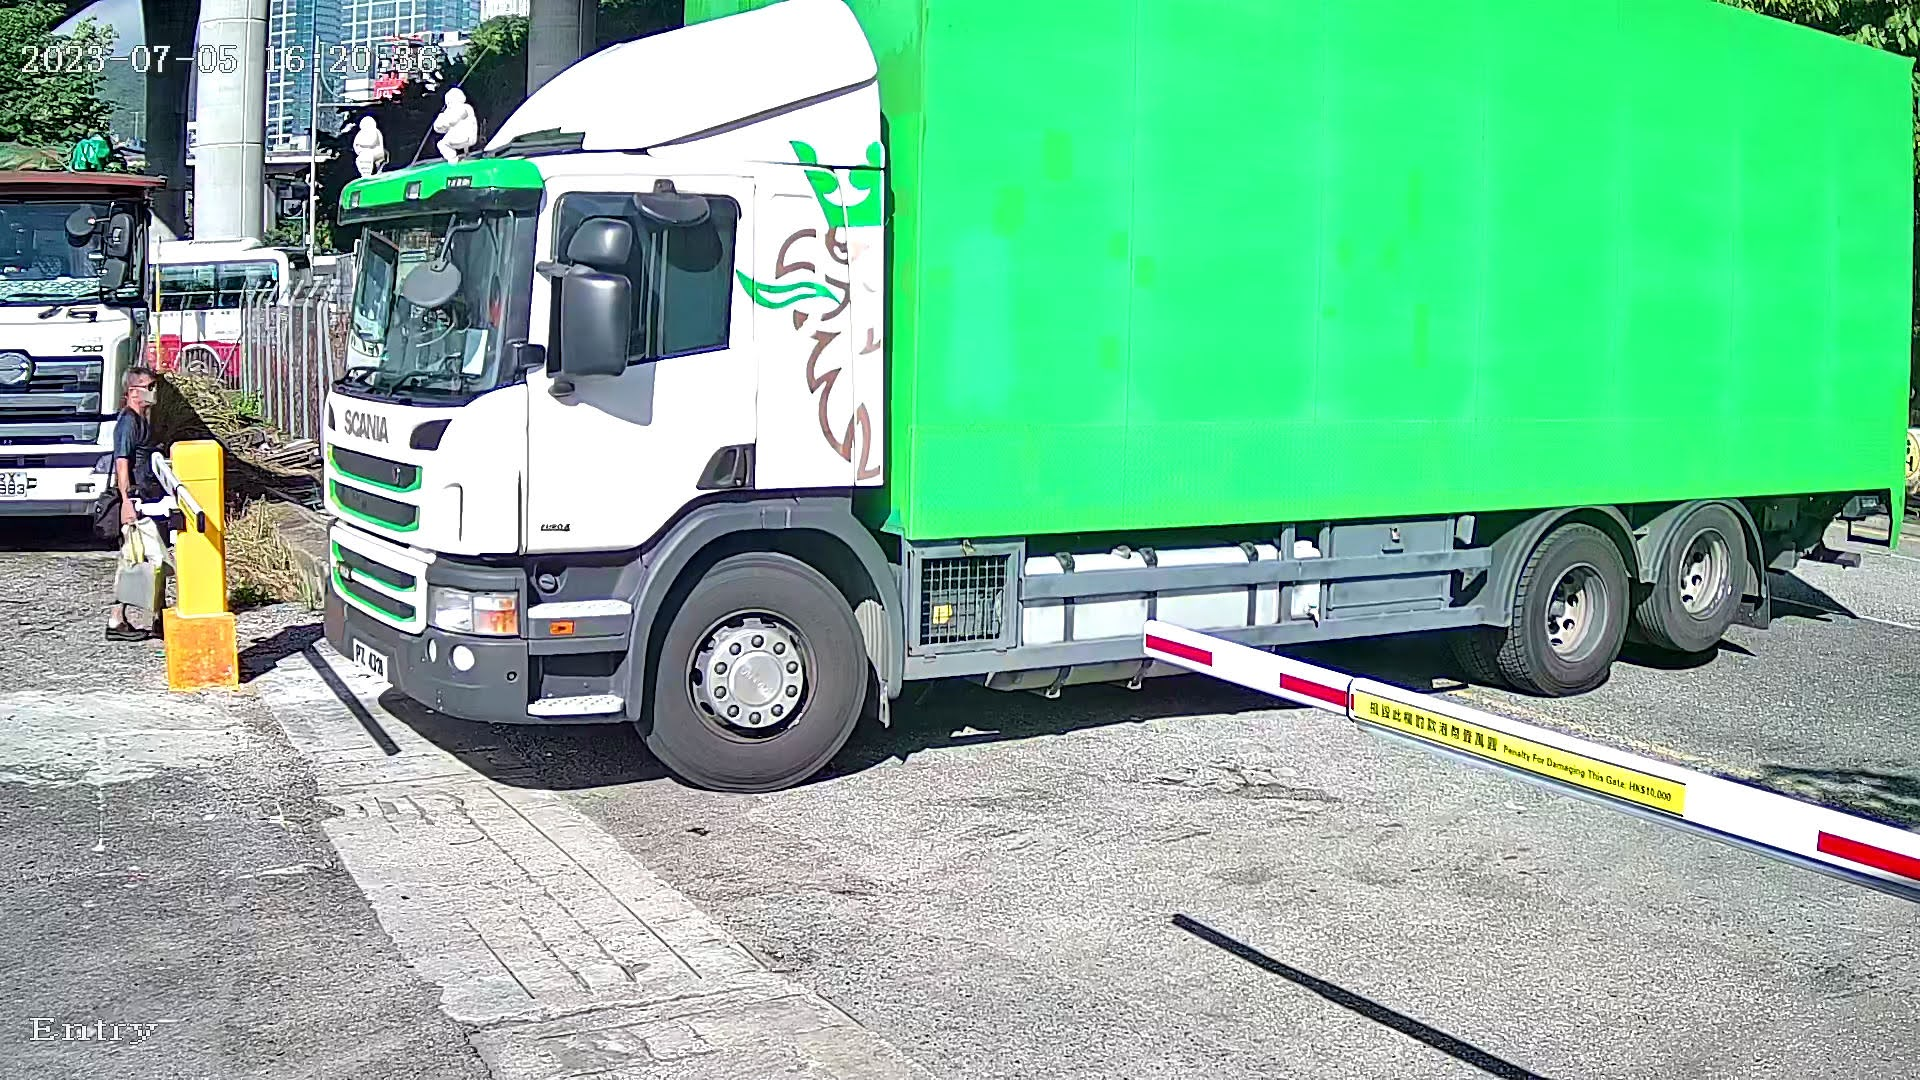truck: (272, 1, 1902, 807)
